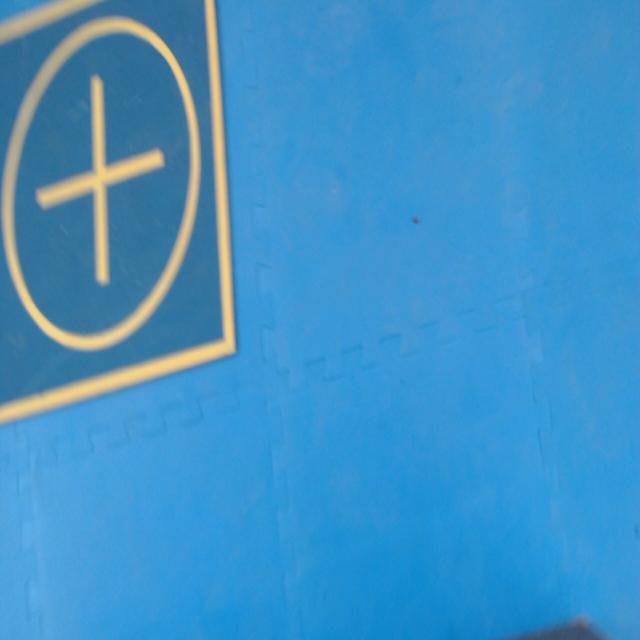base_pouso: (0, 1, 238, 425)
